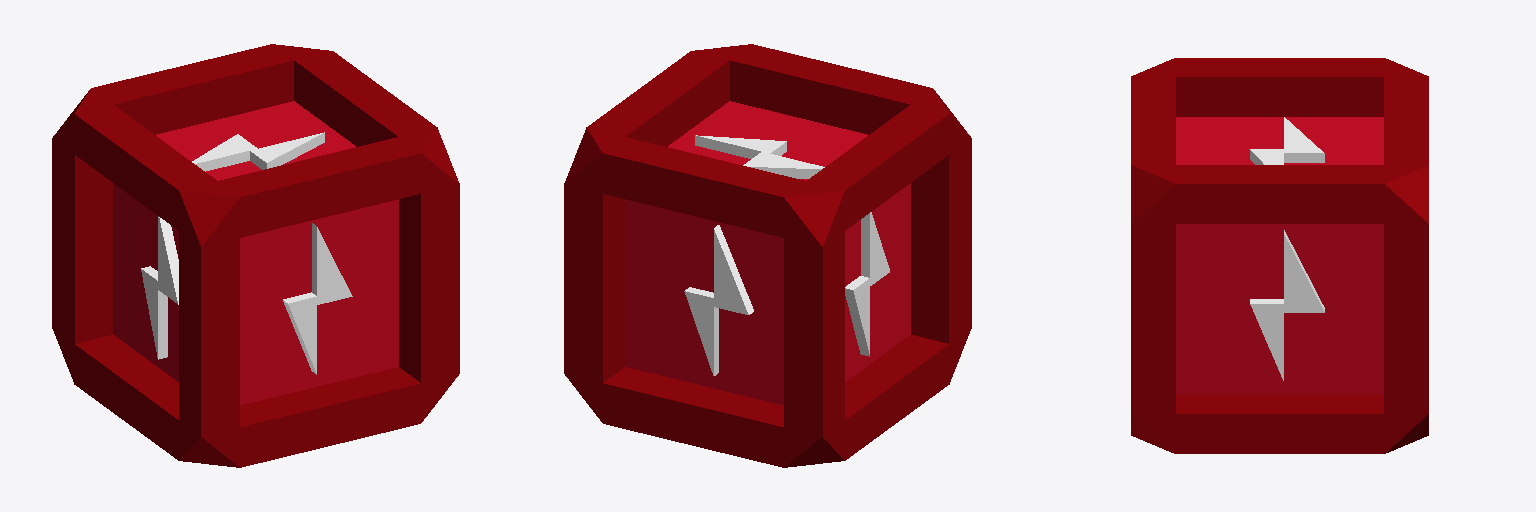
3 views of the same model, side by side, from view 1: azimuth 30°, elevation 25°; view 2: azimuth 150°, elevation 25°; view 3: azimuth 270°, elevation 25° (orthographic).
Visible parts, largest first — view 1: borders, main, icon; view 2: borders, main, icon; view 3: borders, main, icon.
Part boxes in pixels (bbox=[...]): borders: bbox=[52, 44, 459, 467]; main: bbox=[113, 101, 398, 404]; icon: bbox=[141, 132, 352, 374]; borders: bbox=[564, 44, 971, 467]; main: bbox=[625, 101, 910, 404]; icon: bbox=[684, 135, 889, 375]; borders: bbox=[1131, 58, 1428, 453]; main: bbox=[1176, 117, 1383, 394]; icon: bbox=[1250, 117, 1324, 380].
Bounding box in the file's own units: 1.25 × 1.25 × 1.25.
Materials: 1 (1 with a texture image).